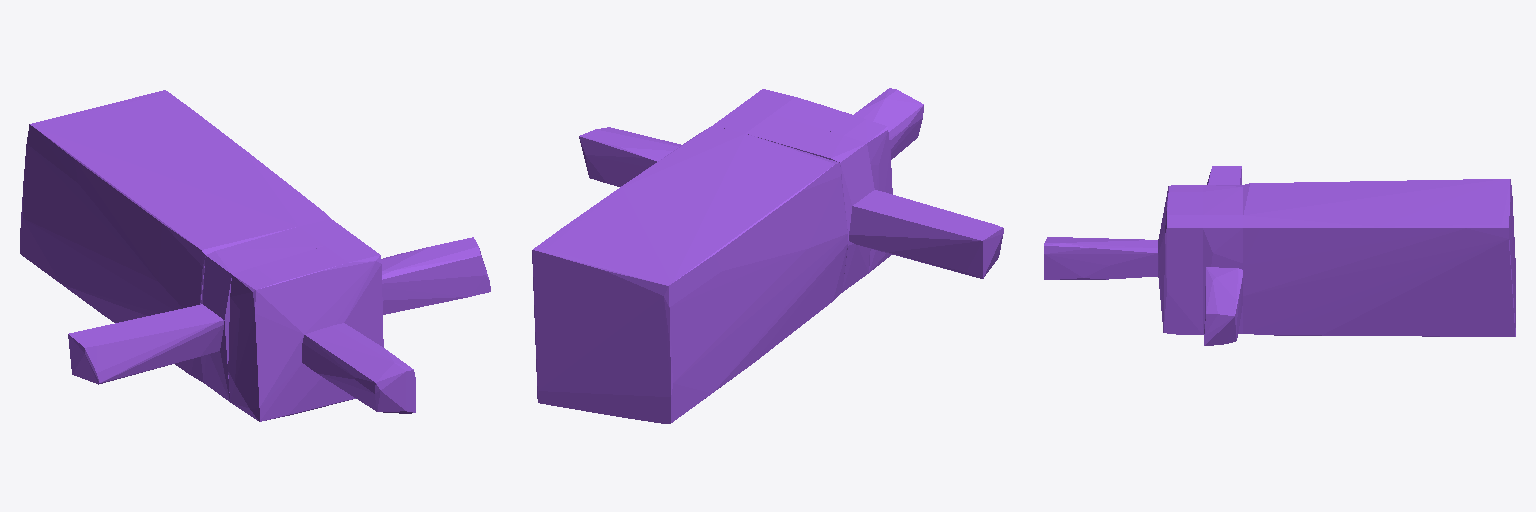
robot.urdf — blob446:
<robot name="blob446">
  <link name="random_obj_446">
    <contact>
      <lateral_friction value="1.0"/>
      <rolling_friction value="0.0"/>
      <inertia_scaling value="3.0"/>
      <contact_cfm value="0.0"/>
      <contact_erp value="1.0"/>
    </contact>
    <inertial>
      <origin rpy="0 0 0" xyz="0 0 0"/>
      <mass value="0.1"/>
      <inertia ixx="1" ixy="0" ixz="0" iyy="1" iyz="0" izz="0"/>
    </inertial>
    <visual>
      <origin rpy="0 0 0" xyz="0 0 0"/>
      <geometry>
        <mesh filename="446.obj" scale="0.015 0.015 0.015"/>
      </geometry>
      <material name="blockmat">
        <color rgba="0.68 0.43 0.94 1"/>
      </material>
    </visual>
    <collision>
      <origin rpy="0 0 0" xyz="0 0 0"/>
      <geometry>
        <mesh filename="446.obj" scale="0.015 0.015 0.015"/>
      </geometry>
    </collision>
  </link>
</robot>

--- Render facts (derived) ---
3 views of the same robot in one strip: view 1: azimuth 30°, elevation 25°; view 2: azimuth 150°, elevation 25°; view 3: azimuth 270°, elevation 25° (orthographic).
Model blob446 with 1 links and 0 joints (none), rooted at random_obj_446, posed every joint at zero.
Links seen in each view (by area): view 1: random_obj_446; view 2: random_obj_446; view 3: random_obj_446.
Link boxes in pixels (<box>): random_obj_446: <box>20,90,490,421</box>; random_obj_446: <box>532,88,1003,423</box>; random_obj_446: <box>1044,166,1515,345</box>.
Size in the robot's own frame: 0.0935 by 0.1221 by 0.0322 metres.
1 mesh visuals loaded from 1 distinct referenced files (1 OBJ).